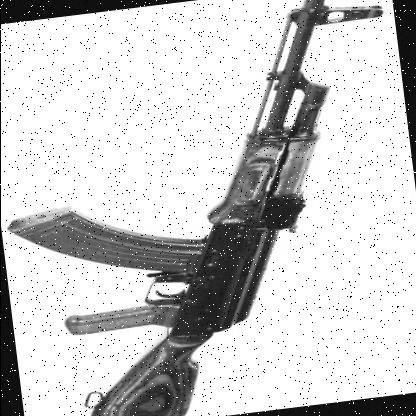rifle: (23, 0, 416, 416)
